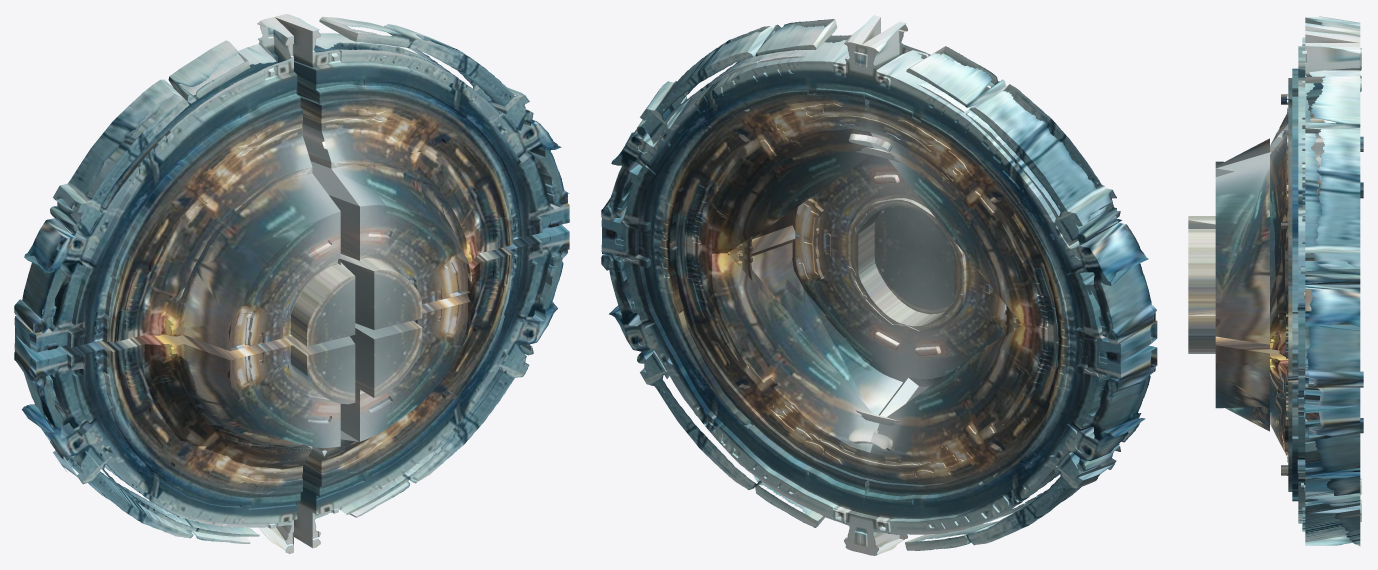
The model's file is Portal2.fbx.
3 views of the same model, side by side, from view 1: azimuth 30°, elevation 25°; view 2: azimuth 150°, elevation 25°; view 3: azimuth 270°, elevation 25° (orthographic). The views are drawn at different scales.
Visible parts, largest first — view 1: Portal.002; view 2: Portal.002; view 3: Portal.002.
Part boxes in pixels (box(x1,y1,x2,y2)): Portal.002: box(14, 14, 569, 553); Portal.002: box(601, 15, 1157, 555); Portal.002: box(1188, 16, 1363, 546).
Bounding box in the file's own units: 757 × 695 × 224.
Materials: 1 (1 with a texture image).
